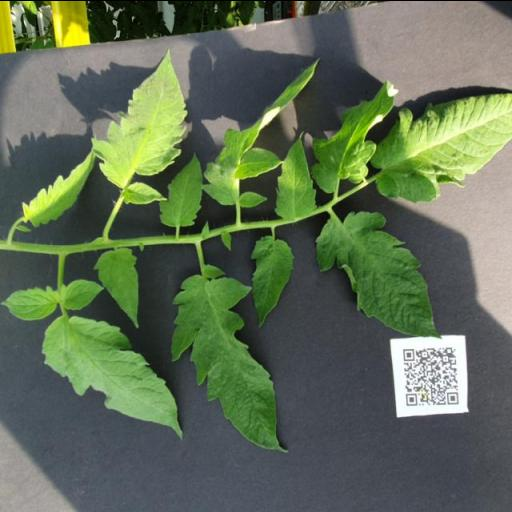Healthy: (2, 278, 184, 438), (170, 272, 290, 452), (202, 52, 322, 208), (314, 209, 442, 339), (369, 88, 512, 203), (90, 46, 188, 187), (310, 78, 400, 192), (22, 146, 96, 227), (250, 233, 298, 328), (273, 130, 317, 221), (92, 246, 140, 329), (158, 150, 204, 226)
